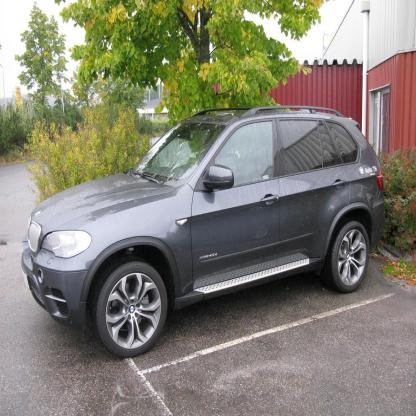Car: (22, 112, 388, 359)
